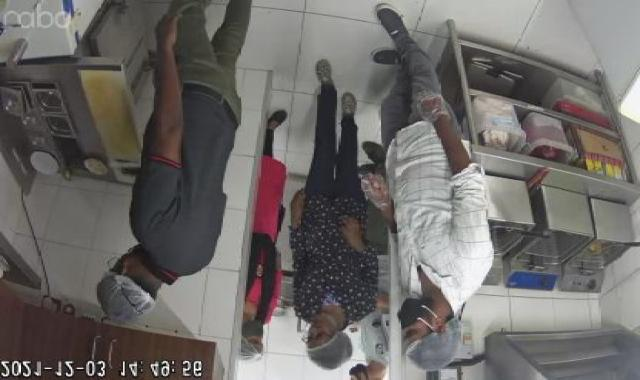hairnet: (80, 270, 156, 332), (402, 312, 474, 370), (298, 325, 364, 369), (230, 330, 267, 366)
